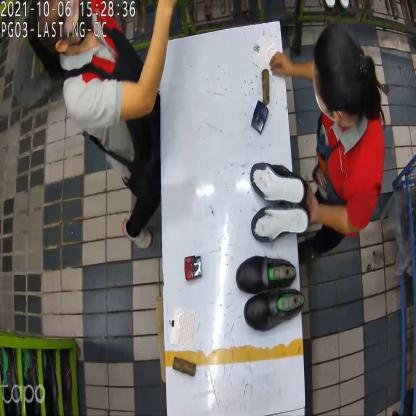shoes: (245, 156, 311, 242), (235, 254, 306, 330)
stamp: (251, 98, 270, 134), (182, 249, 202, 283)
